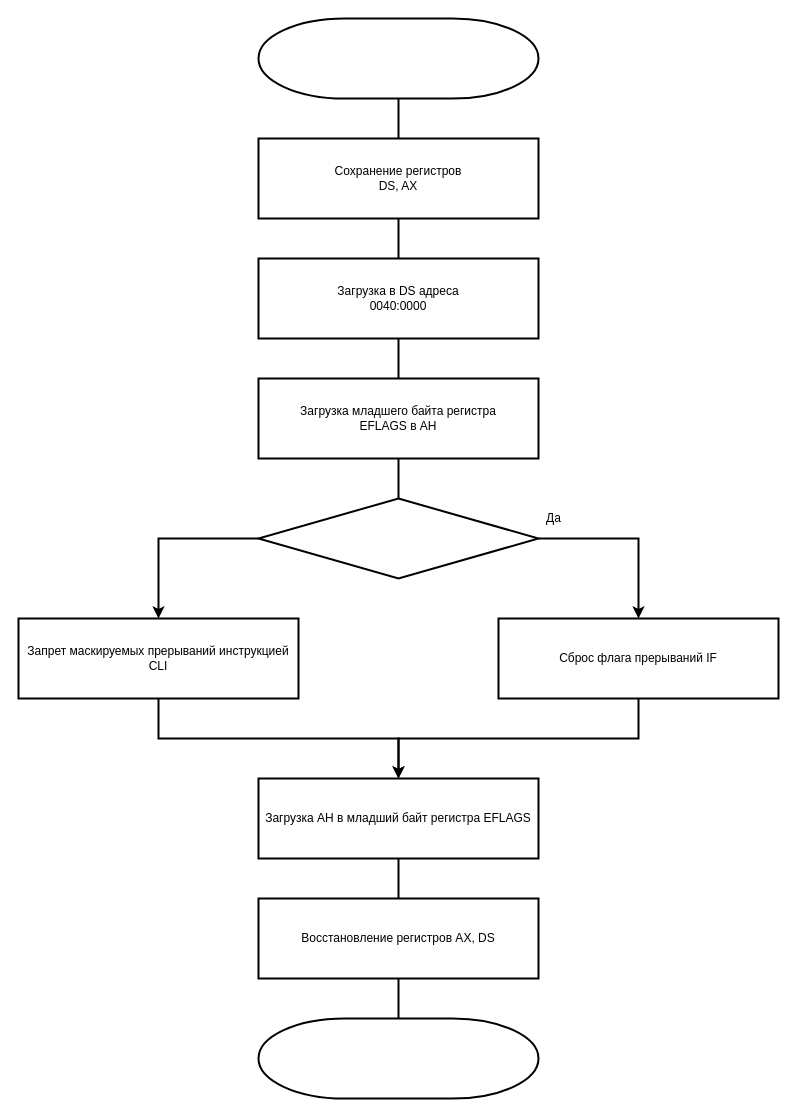
Some shapes in this 796 by 1116 pixel diagram are drawn without their labels. Here are the shapes that lost their labels. From the top down, the box of each, then its label:
(257, 17, 539, 99): Начало
(257, 497, 539, 579): Установлены ли DF и старший бит IOPL в 0040:0314?
(257, 1017, 539, 1099): Конец
